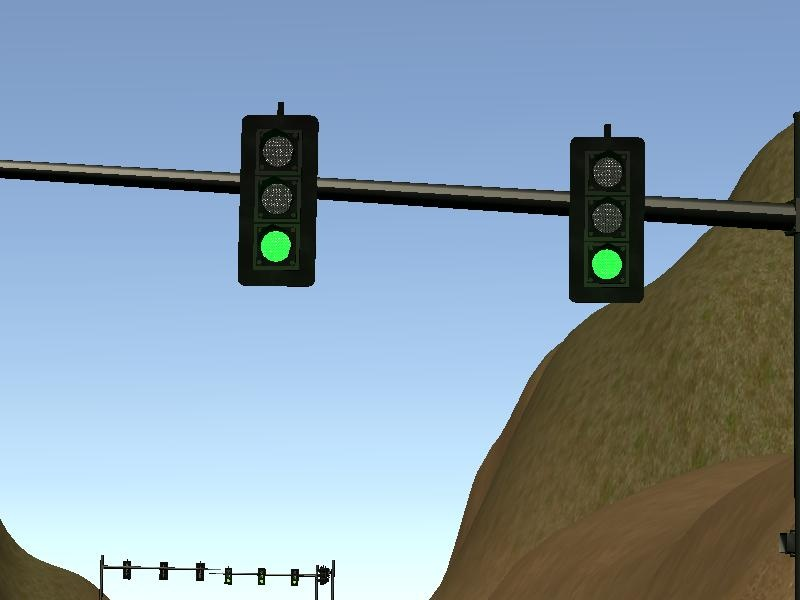GREEN: (237, 113, 317, 285), (569, 138, 645, 304)
